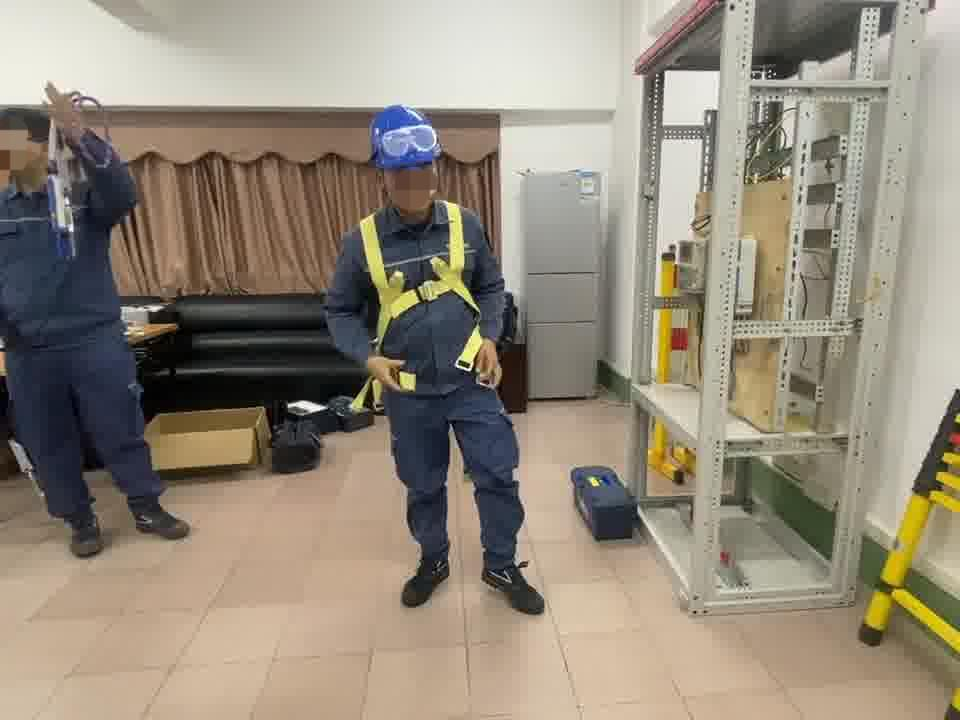halt: (371, 107, 447, 212)
unhalt: (3, 112, 54, 196)
